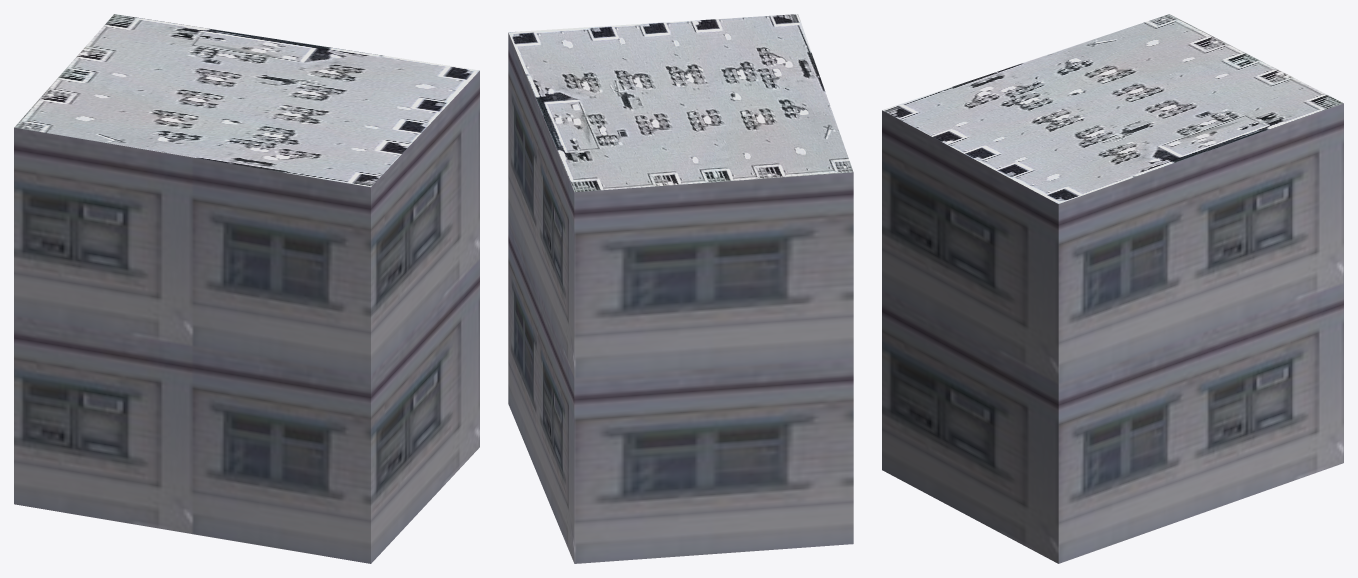
File: ResTex__2513.fbx
The picture shows the model from 3 angles, left to right: view 1: azimuth 30°, elevation 25°; view 2: azimuth 150°, elevation 25°; view 3: azimuth 270°, elevation 25°; orthographic projection. The views are drawn at different scales.
Parts seen in each view (by area): view 1: CityEngineMaterial_1_m, CityEngineMaterial_8_m; view 2: CityEngineMaterial_1_m, CityEngineMaterial_8_m; view 3: CityEngineMaterial_1_m, CityEngineMaterial_8_m.
Part boxes in pixels (left/top/right/bottom): CityEngineMaterial_1_m: left=14, top=71, right=479, bottom=563; CityEngineMaterial_8_m: left=14, top=14, right=479, bottom=187; CityEngineMaterial_1_m: left=508, top=33, right=853, bottom=563; CityEngineMaterial_8_m: left=508, top=14, right=853, bottom=192; CityEngineMaterial_1_m: left=882, top=103, right=1343, bottom=563; CityEngineMaterial_8_m: left=882, top=14, right=1343, bottom=203.
Size of the model in its own units: 6.8 by 6 by 6.98.
2 materials, 2 textured.
